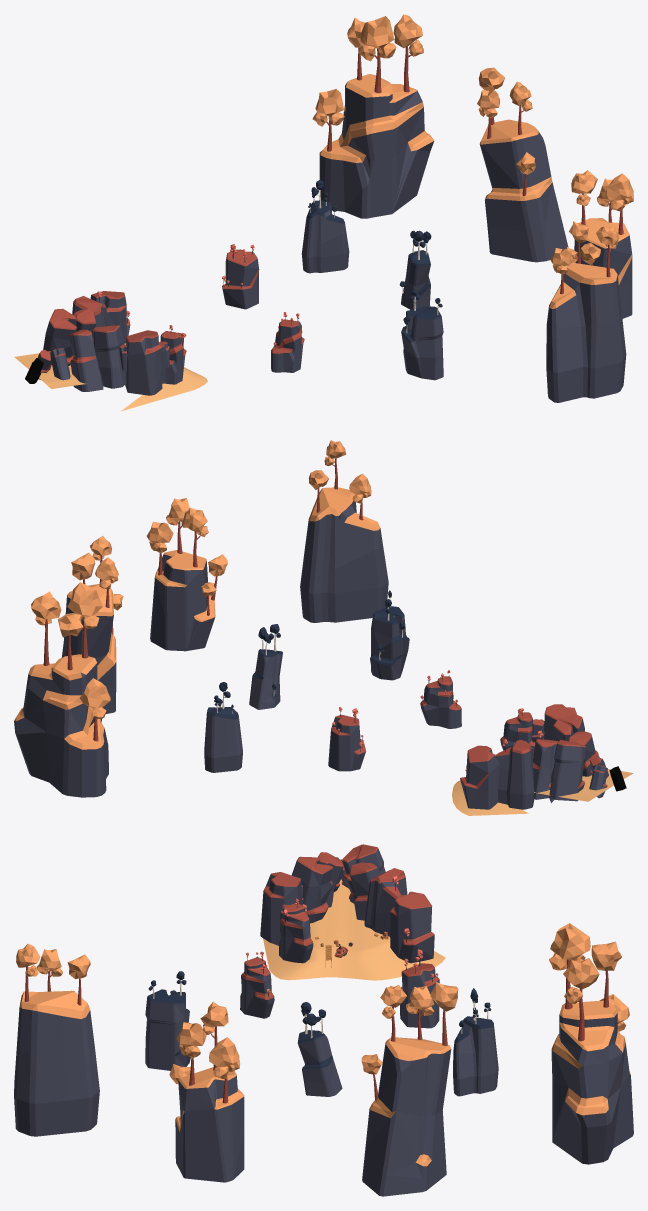
File: beachside.fbx
3 renders of one model, top to bottom at view 1: azimuth 30°, elevation 25°; view 2: azimuth 150°, elevation 25°; view 3: azimuth 270°, elevation 25°, orthographic. The views are drawn at different scales.
Visible parts, largest first — view 1: rock_lp_08.001, Outer2, rock_lp_09.003, Outer1, Middle3, Inner2, rock_lp_06.001, Inner1, Middle2, Sand, rock_lp_07, Middle1 (+5 smaller); view 2: rock_lp_08.001, Outer2, Outer1, rock_lp_09.003, Middle3, Inner2, rock_lp_11, rock_lp_06.004, Middle2, Inner1, rock_lp_07.001, Middle1 (+6 smaller); view 3: rock_lp_08.001, rock_lp_09.003, Outer2, Outer1, Sand, Middle3, Inner2, rock_lp_06.004, Middle2, rock_lp_06.001, rock_lp_11, rock_lp_07 (+6 smaller).
Part boxes in pixels (left/top/right/bottom): rock_lp_08.001: left=312, top=14, right=434, bottom=218; Outer2: left=546, top=221, right=626, bottom=402; rock_lp_09.003: left=477, top=67, right=568, bottom=262; Outer1: left=566, top=170, right=633, bottom=318; Middle3: left=301, top=180, right=349, bottom=273; Inner2: left=401, top=289, right=443, bottom=380; rock_lp_06.001: left=125, top=330, right=162, bottom=395; Inner1: left=222, top=244, right=259, bottom=309; Middle2: left=399, top=230, right=431, bottom=309; Sand: left=14, top=343, right=207, bottom=411; rock_lp_07: left=92, top=325, right=125, bottom=388; Middle1: left=271, top=312, right=304, bottom=372; rock_lp_08.001: left=14, top=582, right=110, bottom=797; Outer2: left=300, top=440, right=388, bottom=622; Outer1: left=147, top=498, right=227, bottom=651; rock_lp_09.003: left=61, top=536, right=123, bottom=714; Middle3: left=204, top=682, right=242, bottom=772; Inner2: left=370, top=590, right=409, bottom=680; rock_lp_11: left=496, top=739, right=534, bottom=809; rock_lp_06.004: left=460, top=745, right=499, bottom=809; Middle2: left=249, top=624, right=282, bottom=709; Inner1: left=328, top=707, right=365, bottom=771; rock_lp_07.001: left=549, top=739, right=585, bottom=802; Middle1: left=420, top=670, right=461, bottom=728; rock_lp_08.001: left=549, top=923, right=633, bottom=1164; rock_lp_09.003: left=361, top=982, right=458, bottom=1196; Outer2: left=14, top=943, right=99, bottom=1136; Outer1: left=169, top=1001, right=244, bottom=1182; Sand: left=263, top=879, right=445, bottom=980; Middle3: left=453, top=988, right=498, bottom=1096; Inner2: left=145, top=971, right=190, bottom=1070; rock_lp_06.004: left=390, top=891, right=434, bottom=963; Middle2: left=297, top=1002, right=342, bottom=1096; rock_lp_06.001: left=260, top=872, right=306, bottom=945; rock_lp_11: left=364, top=868, right=407, bottom=936; rock_lp_07: left=291, top=856, right=332, bottom=923.
Size of the model in its own units: 68653 by 22981 by 59376.
